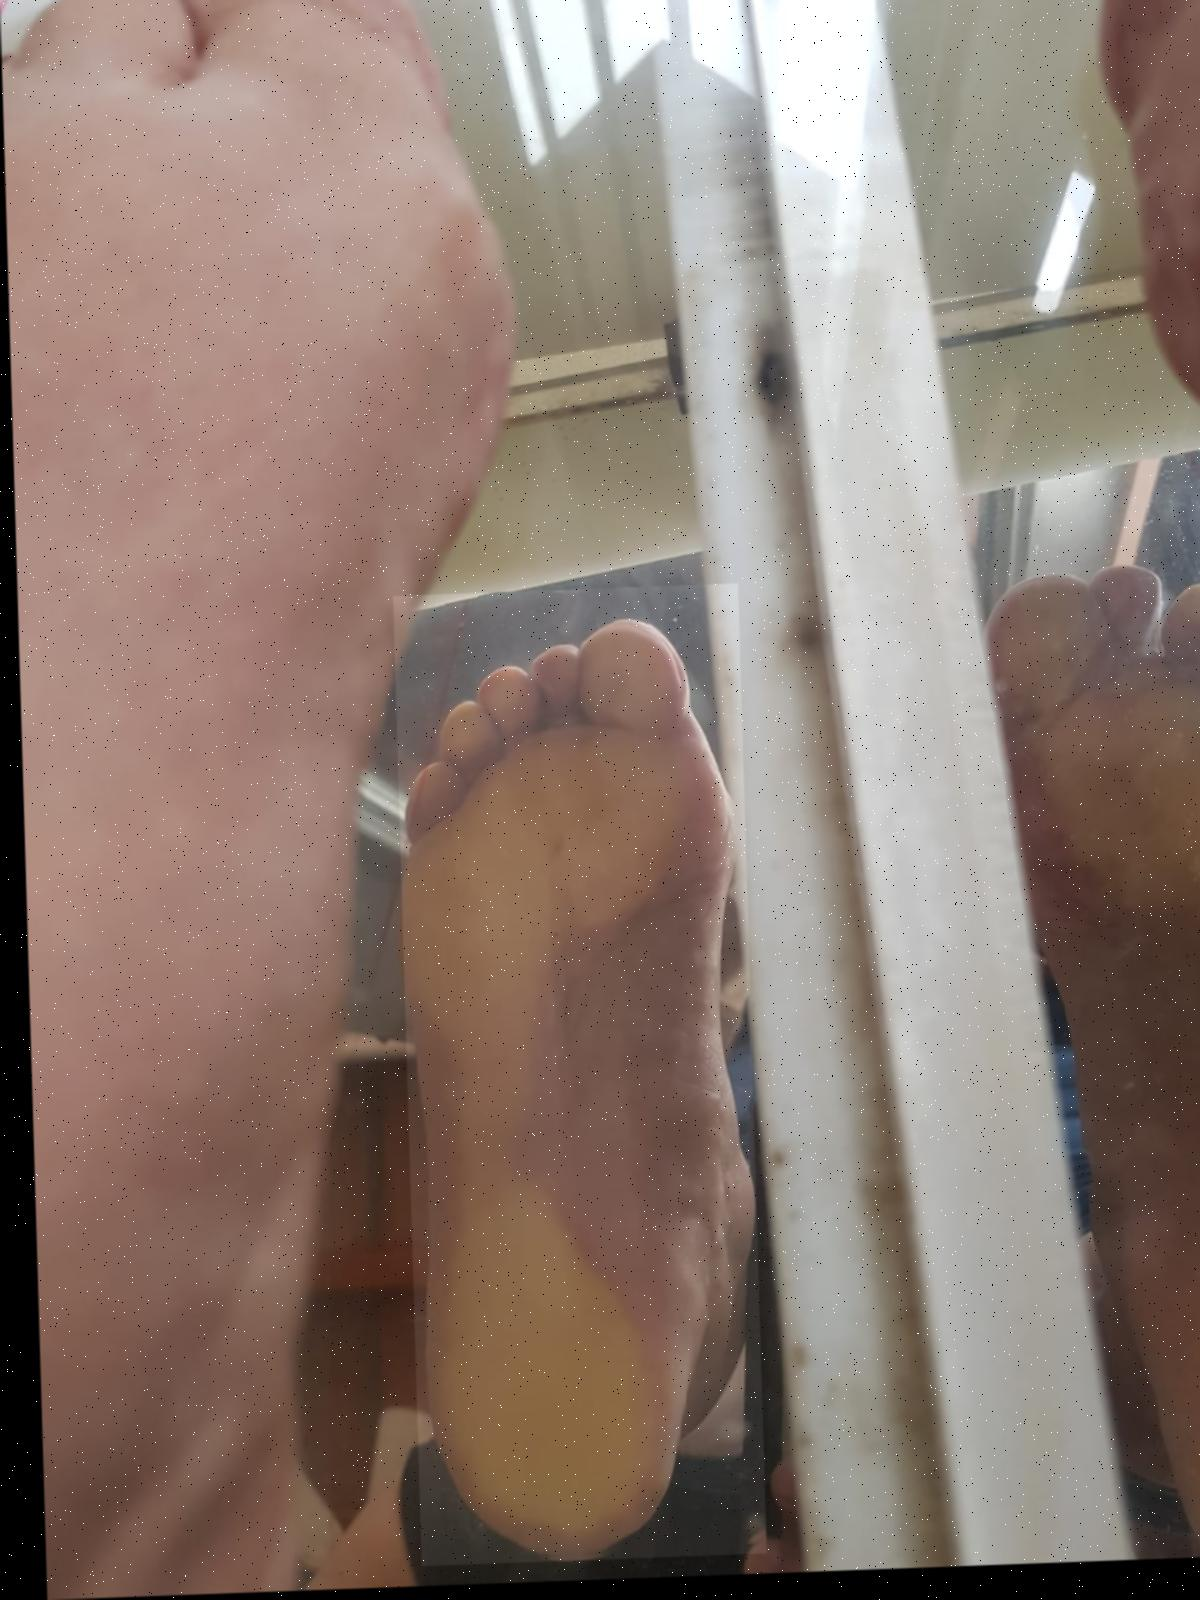Present: (389, 590, 756, 1569)
